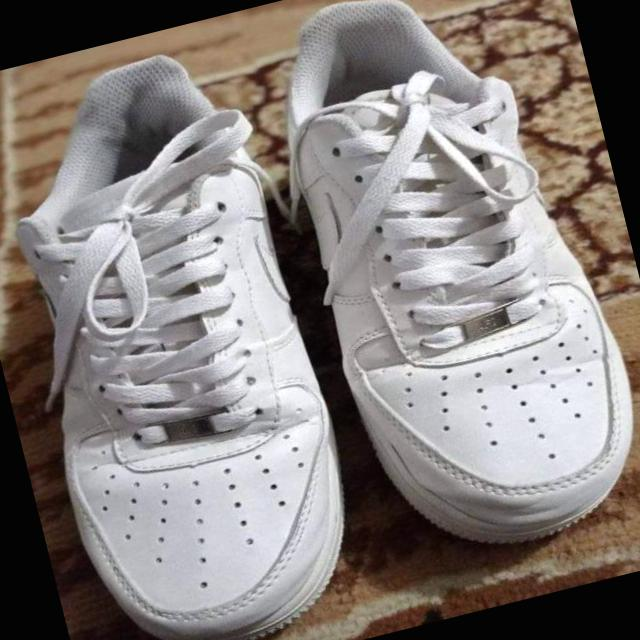nike_fake_airforce: (0, 31, 387, 640), (238, 0, 640, 576)
